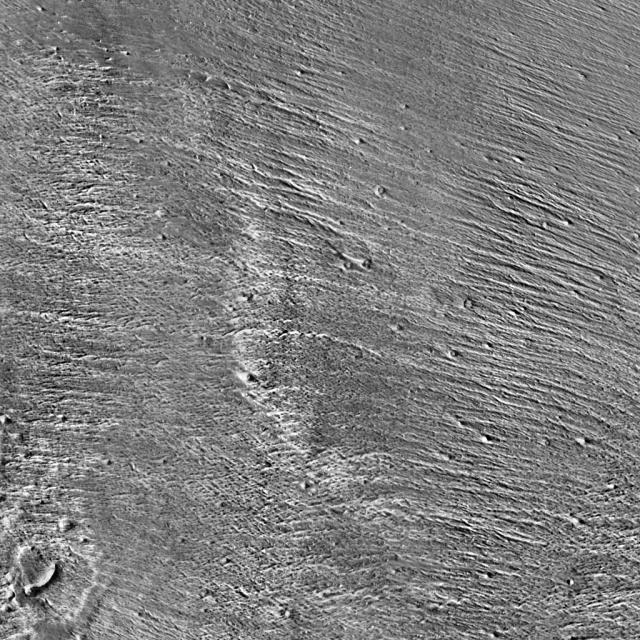crater: (470, 300, 478, 308)
